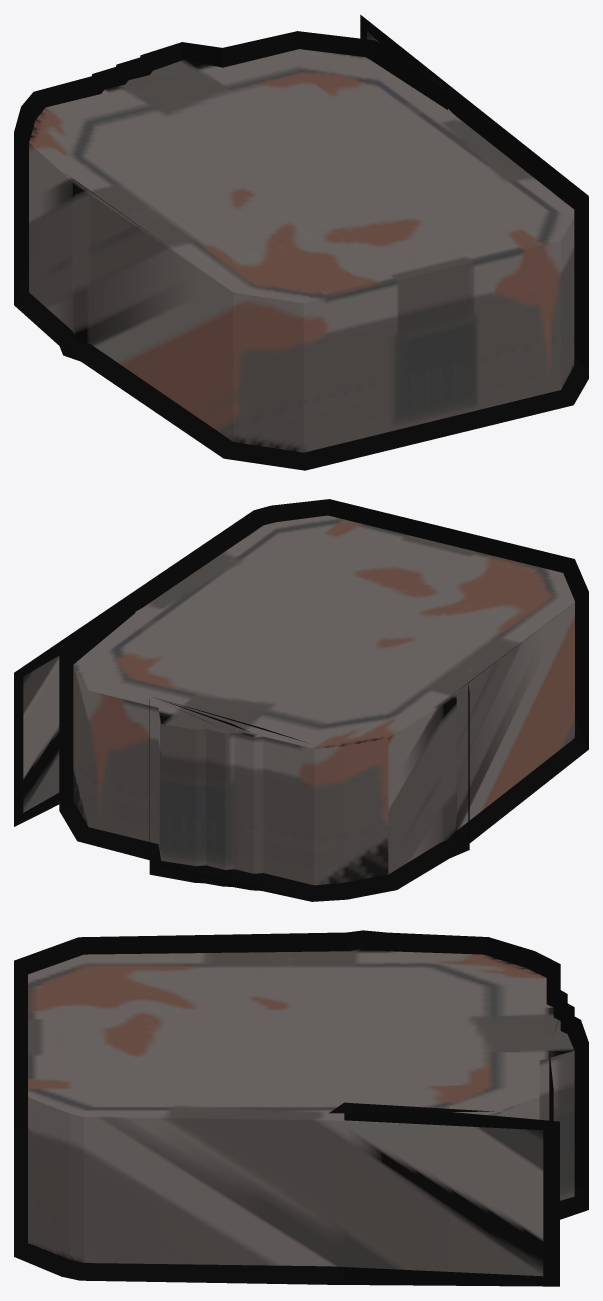
Rendered from Building_AncientSpacerCrate_Things_Building_Ruins_AncientSpacerCrate_AncientSpacerCrateC.glb.
The picture shows the model from 3 angles, top to bottom: view 1: azimuth 30°, elevation 25°; view 2: azimuth 150°, elevation 25°; view 3: azimuth 270°, elevation 25°; orthographic projection. The views are drawn at different scales.
Parts seen in each view (by area): view 1: Body, Outline; view 2: Body, Outline; view 3: Body, Outline.
Part boxes in pixels (left/top/right/bottom): Body: left=29, top=31, right=574, bottom=452; Outline: left=14, top=14, right=588, bottom=470; Body: left=23, top=515, right=574, bottom=885; Outline: left=14, top=499, right=588, bottom=901; Body: left=28, top=948, right=574, bottom=1276; Outline: left=14, top=930, right=588, bottom=1286.
Bounding box in the file's own units: 0.8935 × 0.3987 × 1.14.
2 materials, 1 textured.
